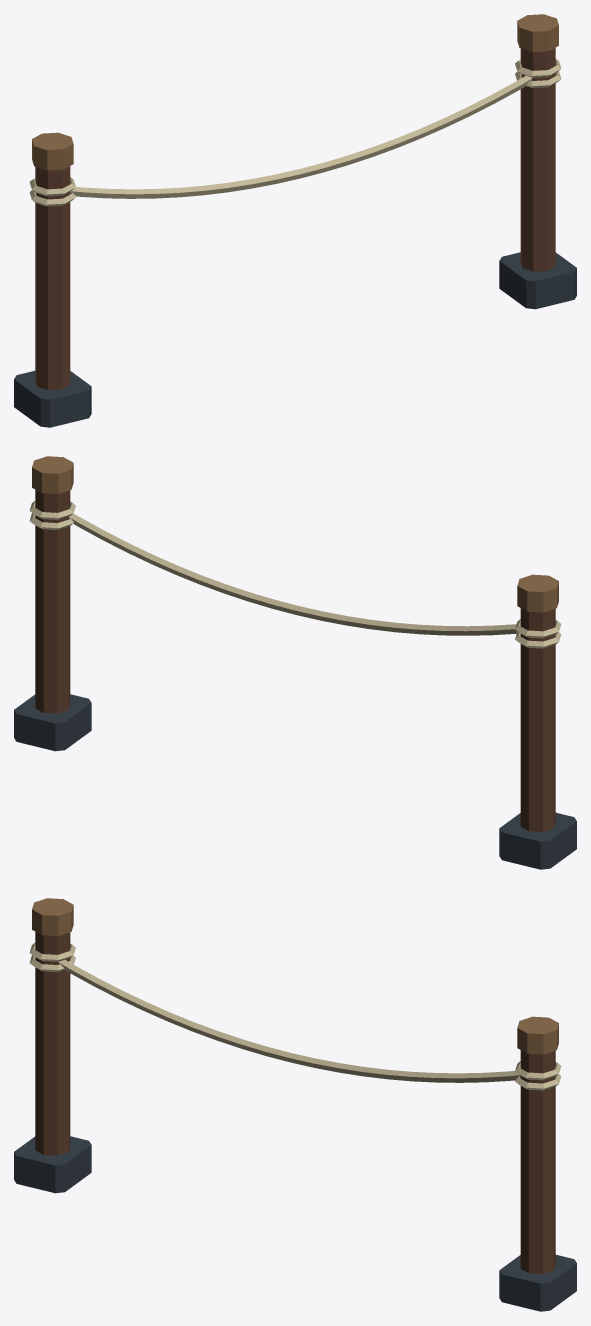
The model's file is rope_post.glb.
3 renders of one model, top to bottom at view 1: azimuth 30°, elevation 25°; view 2: azimuth 150°, elevation 25°; view 3: azimuth 330°, elevation 25°, orthographic.
Visible parts, largest first — view 1: geometry; view 2: geometry; view 3: geometry.
Part boxes in pixels (x1,y1,x2,y2): geometry: (14,14,576,427); geometry: (14,456,576,869); geometry: (14,898,576,1311).
Bounding box in the file's own units: 2.21 × 1.06 × 0.24.
